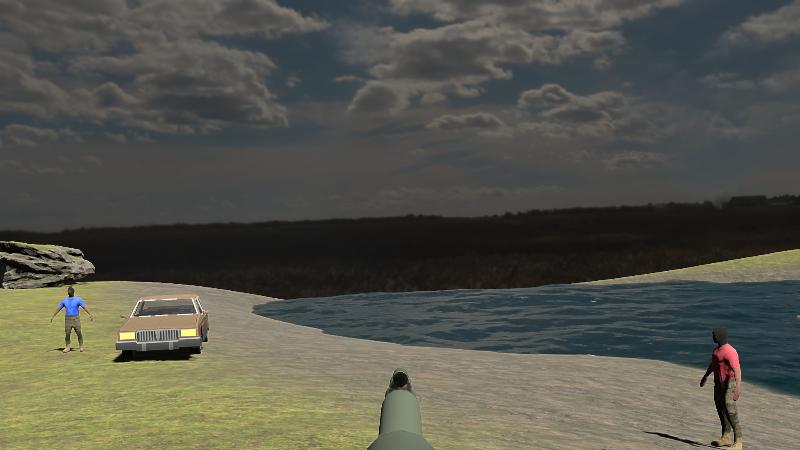Human: (699, 326, 742, 447), (52, 287, 93, 353)
car: (115, 294, 209, 359)
